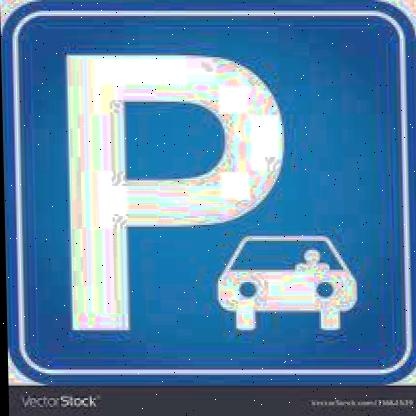Parking: (6, 14, 403, 366)
